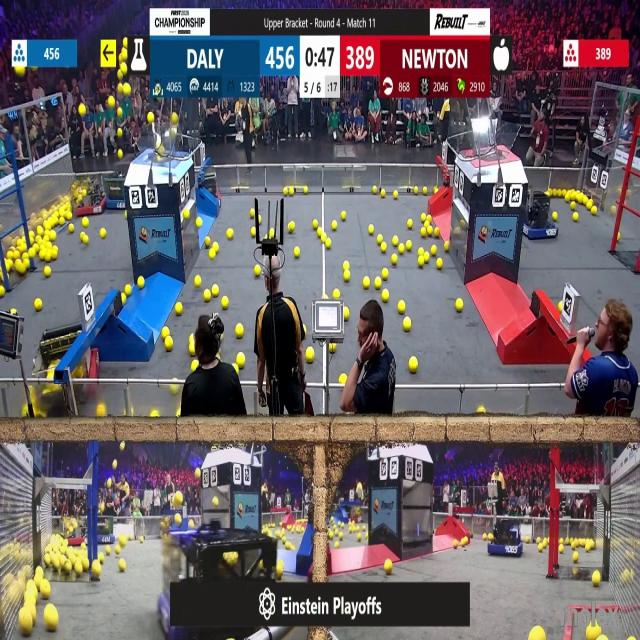ball_airborne: (15, 65, 24, 78), (175, 492, 183, 505), (119, 48, 127, 60), (108, 97, 115, 109), (147, 112, 154, 123), (122, 85, 129, 96), (78, 105, 85, 116), (175, 515, 181, 527), (172, 112, 178, 123), (196, 470, 202, 481), (119, 64, 126, 73), (100, 502, 106, 512), (115, 108, 122, 116), (116, 72, 122, 80), (120, 150, 125, 159), (112, 460, 117, 469), (107, 480, 112, 489), (122, 38, 127, 47), (119, 444, 124, 452), (120, 130, 124, 138)
ball_ground: (44, 608, 57, 632), (22, 614, 34, 636), (530, 628, 544, 640), (40, 583, 50, 599), (592, 571, 602, 586), (409, 356, 418, 372), (276, 562, 284, 578), (92, 562, 101, 576), (384, 560, 392, 575), (15, 262, 24, 275), (307, 348, 315, 362), (74, 562, 82, 576), (237, 323, 244, 338), (238, 353, 245, 368), (98, 406, 106, 419), (402, 318, 410, 331), (204, 289, 212, 302), (362, 277, 370, 289), (340, 374, 348, 386), (397, 302, 404, 315), (35, 299, 42, 312), (221, 295, 228, 308), (38, 250, 46, 261), (175, 304, 182, 316), (193, 276, 200, 288), (138, 277, 145, 289), (190, 359, 197, 371), (456, 300, 463, 312), (253, 266, 260, 278), (382, 289, 389, 301), (166, 339, 173, 351), (126, 284, 133, 296), (212, 285, 219, 297), (188, 344, 195, 356), (83, 560, 89, 574), (51, 247, 57, 260), (435, 260, 442, 271), (5, 262, 12, 273), (344, 309, 350, 321), (118, 560, 124, 572), (183, 208, 189, 220), (23, 408, 29, 420), (81, 217, 88, 227), (163, 327, 170, 337), (430, 246, 437, 256), (571, 212, 578, 222), (376, 278, 382, 289), (572, 552, 578, 563), (172, 384, 178, 395), (209, 250, 216, 259), (420, 229, 427, 238), (328, 344, 335, 353), (461, 536, 468, 545), (420, 213, 427, 222), (432, 229, 439, 238), (270, 230, 277, 239), (212, 497, 219, 506), (226, 230, 232, 240), (101, 230, 107, 240), (344, 272, 350, 282), (382, 270, 388, 280), (293, 248, 299, 258), (288, 221, 294, 231), (419, 256, 425, 266), (445, 242, 451, 252), (335, 289, 341, 299), (194, 217, 200, 227), (44, 268, 50, 278), (68, 222, 74, 232), (407, 242, 413, 252), (325, 240, 331, 250), (49, 232, 55, 242), (392, 237, 398, 247), (99, 553, 105, 563), (119, 535, 125, 545), (572, 567, 578, 577), (587, 200, 593, 210), (316, 230, 323, 238), (0, 286, 5, 297), (331, 220, 337, 229), (344, 263, 350, 272), (408, 219, 414, 228), (205, 238, 211, 247), (381, 244, 387, 253), (212, 240, 218, 249), (565, 194, 571, 203), (34, 226, 40, 235), (392, 254, 397, 264), (251, 228, 256, 238), (378, 235, 383, 245), (342, 212, 347, 222), (398, 244, 403, 254), (424, 254, 429, 264), (80, 234, 85, 244), (340, 534, 345, 544), (106, 544, 111, 554), (120, 293, 125, 303), (150, 412, 157, 419), (478, 408, 485, 415), (570, 202, 576, 210), (452, 539, 458, 547), (67, 213, 73, 221), (250, 209, 255, 218), (427, 226, 432, 235), (313, 219, 318, 228), (288, 188, 294, 195), (586, 543, 592, 550), (368, 224, 372, 234), (537, 543, 542, 551), (357, 536, 362, 544), (559, 544, 564, 552), (592, 207, 597, 215), (381, 189, 386, 197), (61, 216, 66, 224), (419, 248, 424, 255), (423, 187, 428, 194), (371, 186, 376, 193), (432, 186, 437, 193), (393, 190, 397, 198), (116, 544, 120, 552), (618, 234, 622, 242), (284, 187, 288, 195), (323, 292, 327, 300), (329, 531, 333, 539), (305, 186, 309, 193), (258, 216, 262, 223), (560, 537, 564, 544), (140, 536, 144, 542), (176, 412, 180, 418), (337, 541, 341, 547), (484, 534, 488, 540), (600, 636, 606, 640), (130, 534, 134, 540), (536, 536, 540, 542), (11, 309, 15, 315), (269, 530, 273, 536)
goal: (464, 121, 522, 160), (128, 130, 188, 161)
robot_blue: (160, 531, 270, 638), (522, 191, 560, 239), (488, 517, 522, 557), (338, 482, 369, 524), (106, 172, 127, 209), (97, 519, 115, 544)
robot_red: (36, 324, 91, 406), (68, 174, 107, 215), (196, 168, 220, 202), (61, 515, 88, 545)
